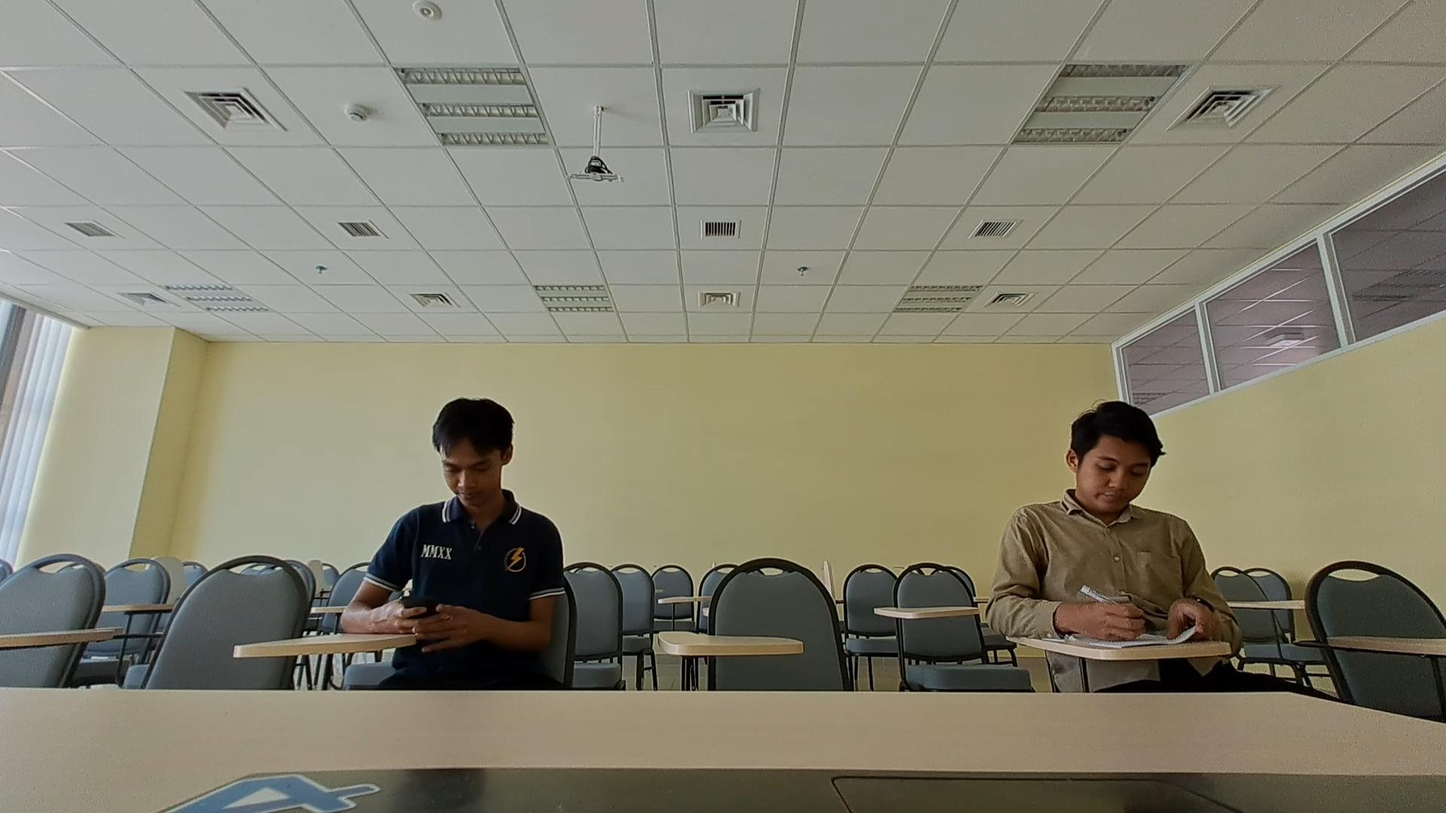phone: (339, 390, 566, 642)
study: (981, 391, 1227, 647)
